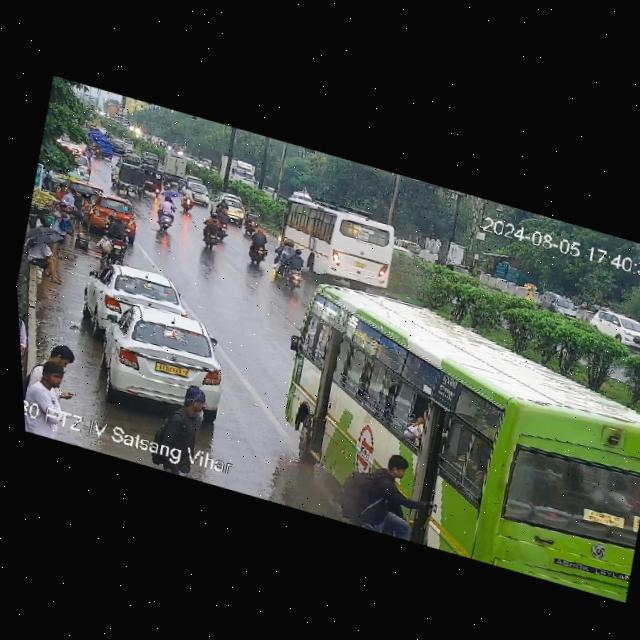bus: (261, 260, 640, 572), (215, 154, 263, 196), (158, 147, 190, 183)
car: (84, 296, 232, 423), (84, 256, 187, 338), (74, 185, 143, 237), (585, 305, 640, 357), (110, 158, 165, 203), (538, 289, 584, 324), (62, 150, 99, 184), (139, 165, 171, 199), (214, 194, 248, 222), (442, 257, 476, 283), (187, 179, 213, 205), (108, 139, 129, 156)
motorcycle: (91, 209, 138, 264), (276, 244, 313, 290), (195, 209, 232, 253), (241, 226, 274, 268), (152, 195, 182, 235), (239, 208, 264, 236), (176, 187, 200, 215)
person: (148, 372, 228, 483), (341, 436, 423, 541), (20, 330, 92, 445), (21, 229, 71, 290), (57, 184, 87, 236)
truck: (267, 191, 410, 300)
